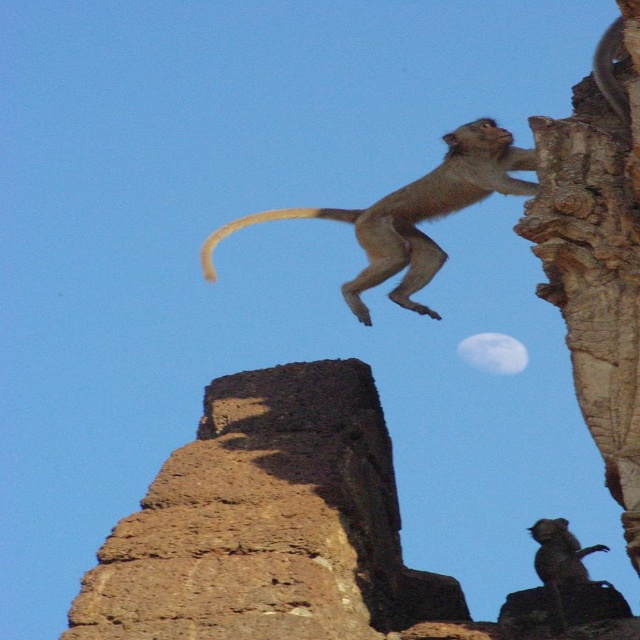Monkey: (215, 120, 549, 348), (526, 517, 615, 584)
